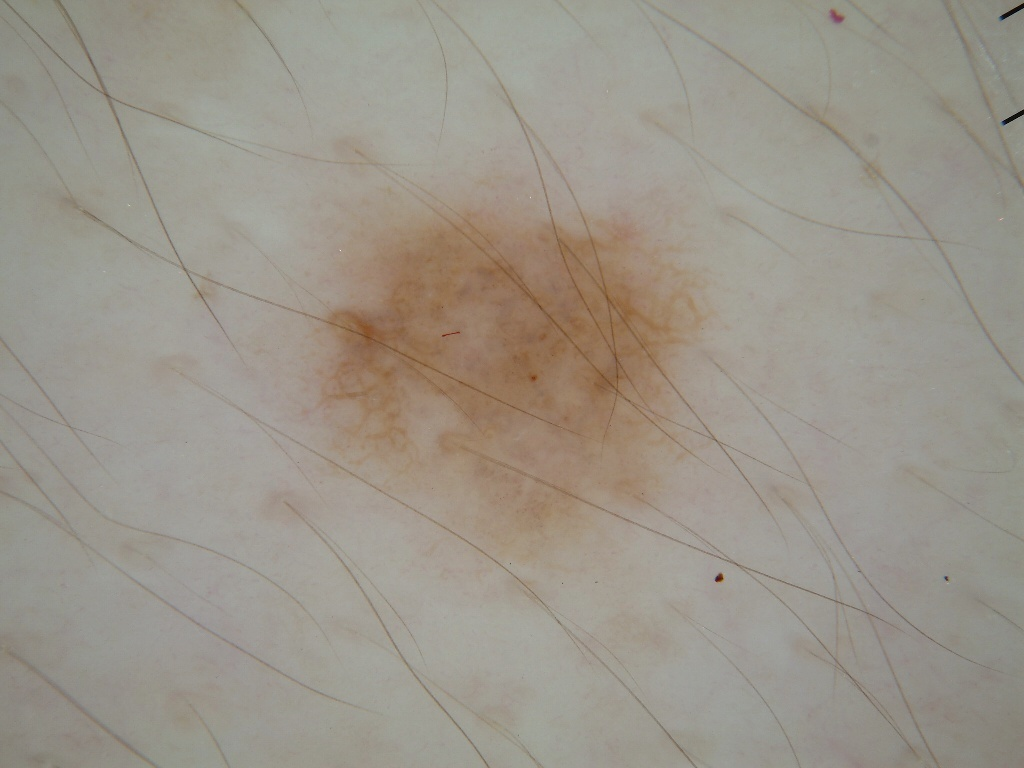Detected Lesion: (307, 195, 714, 523)
